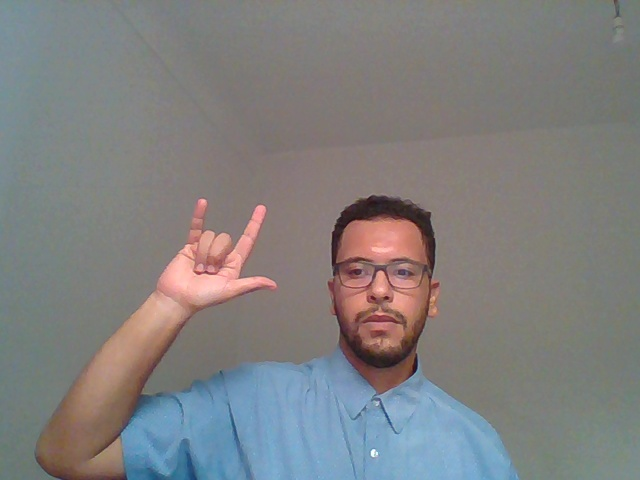iloveyou: (106, 162, 324, 378)
